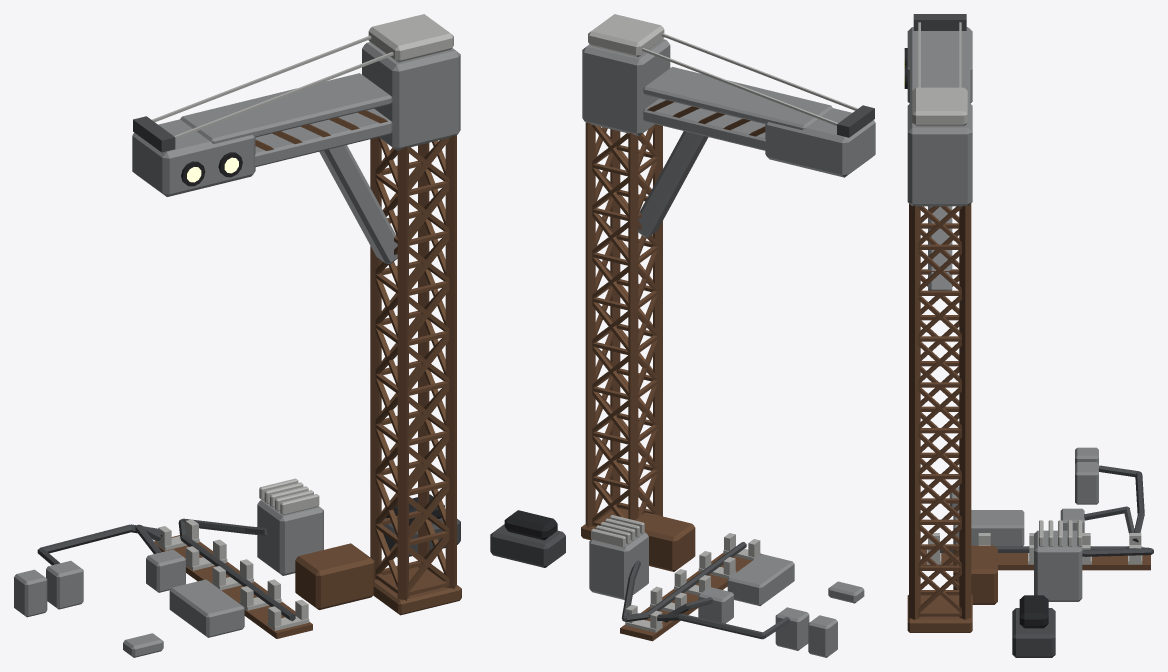
The model's file is train-stop.glb.
3 renders of one model, left to right at view 1: azimuth 30°, elevation 25°; view 2: azimuth 150°, elevation 25°; view 3: azimuth 270°, elevation 25°, orthographic. The views are drawn at different scales.
Parts seen in each view (by area): view 1: body; view 2: body; view 3: body.
Part boxes in pixels (bbox=[...]): body: bbox=[14, 14, 461, 657]; body: bbox=[490, 14, 875, 657]; body: bbox=[904, 14, 1153, 657].
Bounding box in the file's own units: 3.54 × 4.76 × 2.08.
